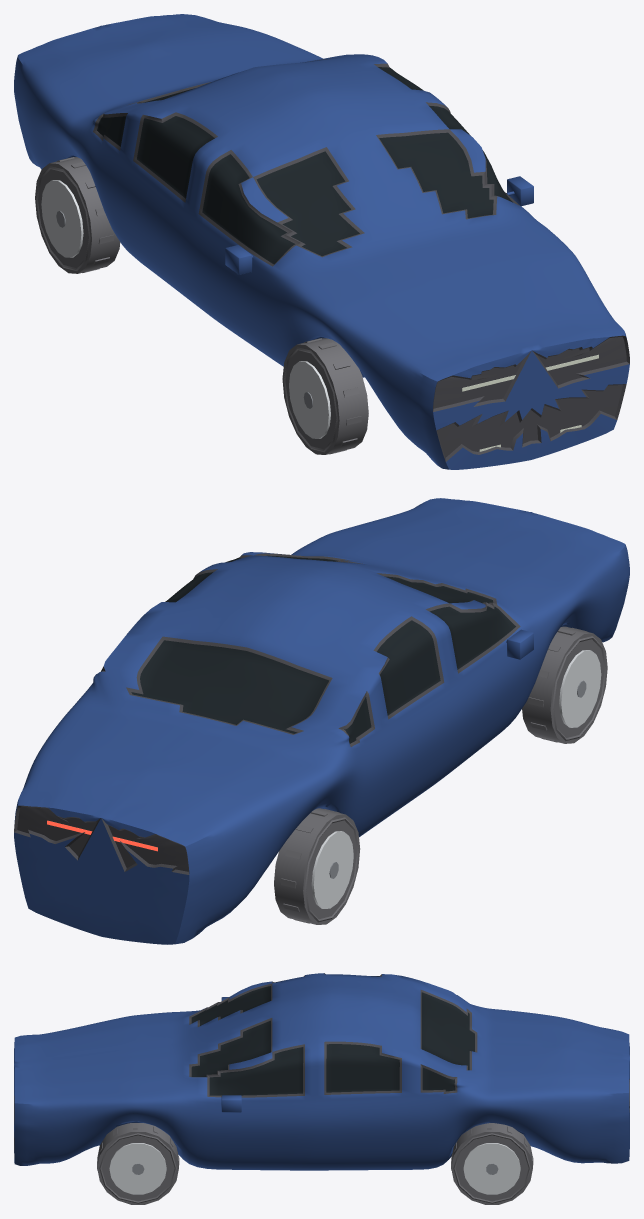
File: Sedan_Mid_A_25_Navy.fbx
The picture shows the model from 3 angles, top to bottom: view 1: azimuth 30°, elevation 25°; view 2: azimuth 150°, elevation 25°; view 3: azimuth 270°, elevation 25°; orthographic projection. The views are drawn at different scales.
Visible parts, largest first — view 1: LOD0; view 2: LOD0; view 3: LOD0.
Part boxes in pixels (left/top/right/bottom): LOD0: left=14, top=14, right=629, bottom=469; LOD0: left=14, top=498, right=629, bottom=944; LOD0: left=14, top=973, right=629, bottom=1204.
Size of what is drawn, in the model's own units: 195 by 144 by 491.
